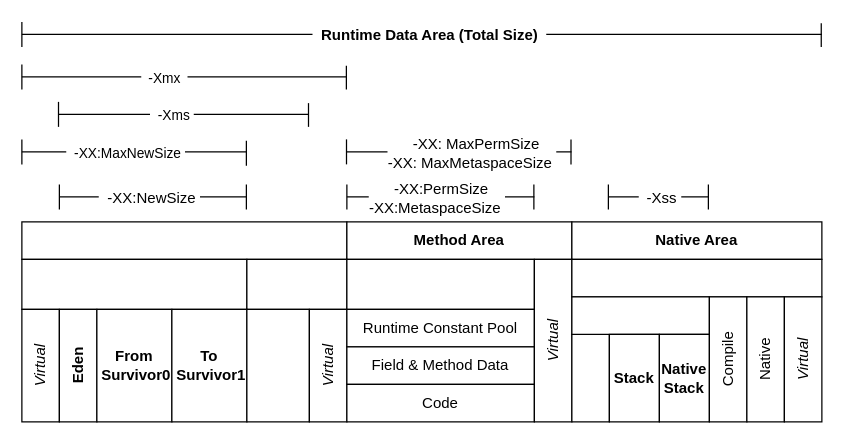
The diagram is 845 pixels wide and 444 high, and some of its shapes have lost their labels. The centre of each missing label's shape, as x and y in pixels:
"Cod Cache" goes at (696,277).
"Heap Space" goes at (184,240).
"Old Genaration" goes at (296,283).
"PC" goes at (590,377).
"Permanent Generation / MetaSpace" goes at (440,283).
"Tenured" goes at (277,365).
"Thread 1-N" goes at (640,315).
"Young Genaration" goes at (134,283).
